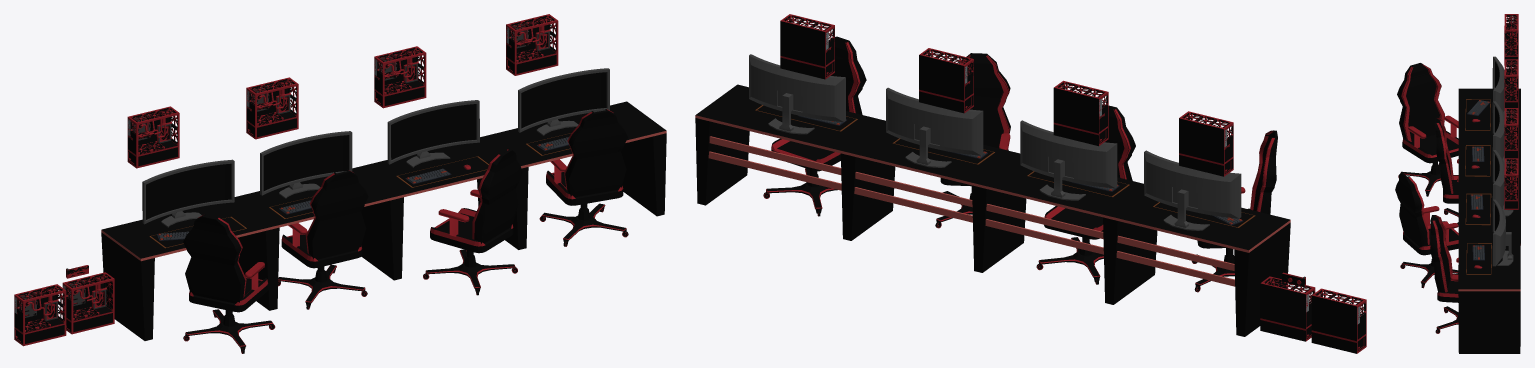
Rendered from RedGamingPC.fbx.
3 views of the same model, side by side, from view 1: azimuth 30°, elevation 25°; view 2: azimuth 150°, elevation 25°; view 3: azimuth 270°, elevation 25° (orthographic). The views are drawn at different scales.
Visible parts, largest first — view 1: Monitor 4.069, IMPORTANTseatCHAIR, IMPORTANTseatCHAIR.003, IMPORTANTseatCHAIR.001, IMPORTANTseatCHAIR.002, Monitor 4.269, Monitor 4.265, Monitor 4.267, Monitor 4, SystemUnit 2, SystemUnit 1, SystemUnit 3 (+5 smaller); view 2: Monitor 4.069, Monitor 4.267, Monitor 4.269, Monitor 4.265, Monitor 4, IMPORTANTseatCHAIR.003, IMPORTANTseatCHAIR.002, IMPORTANTseatCHAIR.001, SystemUnit 2, SystemUnit without GPU pipe, SystemUnit 3, SystemUnit 4 (+7 smaller); view 3: Monitor 4.069, IMPORTANTseatCHAIR, IMPORTANTseatCHAIR.002, IMPORTANTseatCHAIR.003, IMPORTANTseatCHAIR.001, Monitor 4, SystemUnit 4, SystemUnit 3, SystemUnit 2, SystemUnit 1, Monitor 4.264, Monitor 4.066 (+10 smaller).
Boxes of the visible parts, bbox=[...] form: Monitor 4.069: bbox=[101, 101, 666, 340]; IMPORTANTseatCHAIR: bbox=[183, 214, 275, 353]; IMPORTANTseatCHAIR.003: bbox=[539, 109, 628, 246]; IMPORTANTseatCHAIR.001: bbox=[278, 169, 368, 309]; IMPORTANTseatCHAIR.002: bbox=[423, 148, 522, 295]; Monitor 4.269: bbox=[387, 100, 479, 164]; Monitor 4.265: bbox=[142, 159, 234, 224]; Monitor 4.267: bbox=[260, 131, 352, 195]; Monitor 4: bbox=[518, 68, 609, 132]; SystemUnit 2: bbox=[246, 77, 298, 139]; SystemUnit 1: bbox=[127, 106, 179, 168]; SystemUnit 3: bbox=[374, 46, 426, 108]; Monitor 4.069: bbox=[695, 84, 1290, 336]; Monitor 4.267: bbox=[1020, 120, 1117, 197]; Monitor 4.269: bbox=[886, 87, 983, 164]; Monitor 4.265: bbox=[1144, 150, 1241, 227]; Monitor 4: bbox=[749, 54, 845, 131]; IMPORTANTseatCHAIR.003: bbox=[763, 36, 866, 216]; IMPORTANTseatCHAIR.002: bbox=[935, 53, 1010, 228]; IMPORTANTseatCHAIR.001: bbox=[1036, 104, 1135, 284]; SystemUnit 2: bbox=[1053, 80, 1108, 146]; SystemUnit without GPU pipe: bbox=[1311, 288, 1366, 353]; SystemUnit 3: bbox=[919, 48, 973, 113]; SystemUnit 4: bbox=[780, 14, 834, 79]; Monitor 4.069: bbox=[1458, 88, 1520, 353]; IMPORTANTseatCHAIR: bbox=[1397, 63, 1458, 196]; IMPORTANTseatCHAIR.002: bbox=[1395, 172, 1458, 288]; IMPORTANTseatCHAIR.003: bbox=[1430, 215, 1458, 333]; IMPORTANTseatCHAIR.001: bbox=[1434, 117, 1458, 228]; Monitor 4: bbox=[1492, 199, 1512, 266]; SystemUnit 4: bbox=[1504, 158, 1518, 209]; SystemUnit 3: bbox=[1504, 108, 1518, 159]; SystemUnit 2: bbox=[1504, 59, 1518, 110]; SystemUnit 1: bbox=[1504, 14, 1518, 65]; Monitor 4.264: bbox=[1466, 243, 1491, 274]; Monitor 4.066: bbox=[1465, 145, 1490, 176].
Size of the model in its own units: 4490 by 1322 by 1007.
